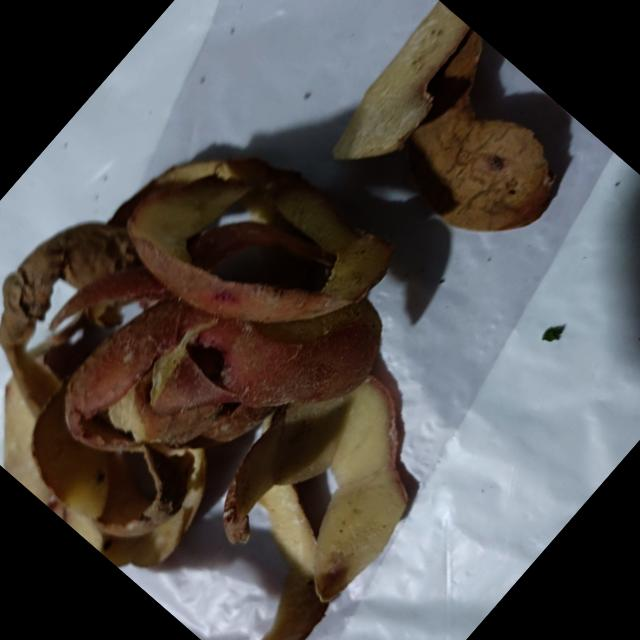organic: (0, 63, 536, 640)
